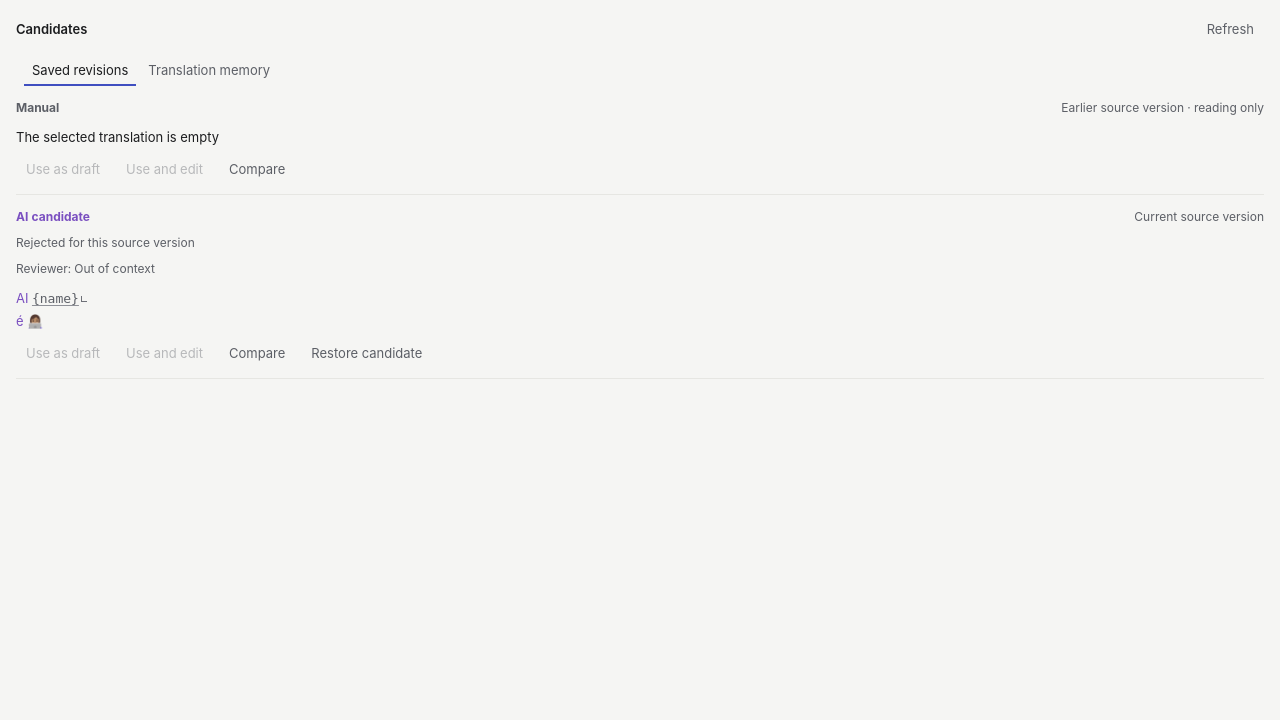
Scenario: keeps older-source and rejected candidates readable and comparable while preventing draft adoption
Expected: the button "Use as draft" below "Manual" is disabled, [16,156,110,182]
Expected: the text "Rejected for this source version" is shown, [16,235,195,250]
Click the button "Compare" below "Manual" at (257, 169), box [219,156,295,182]
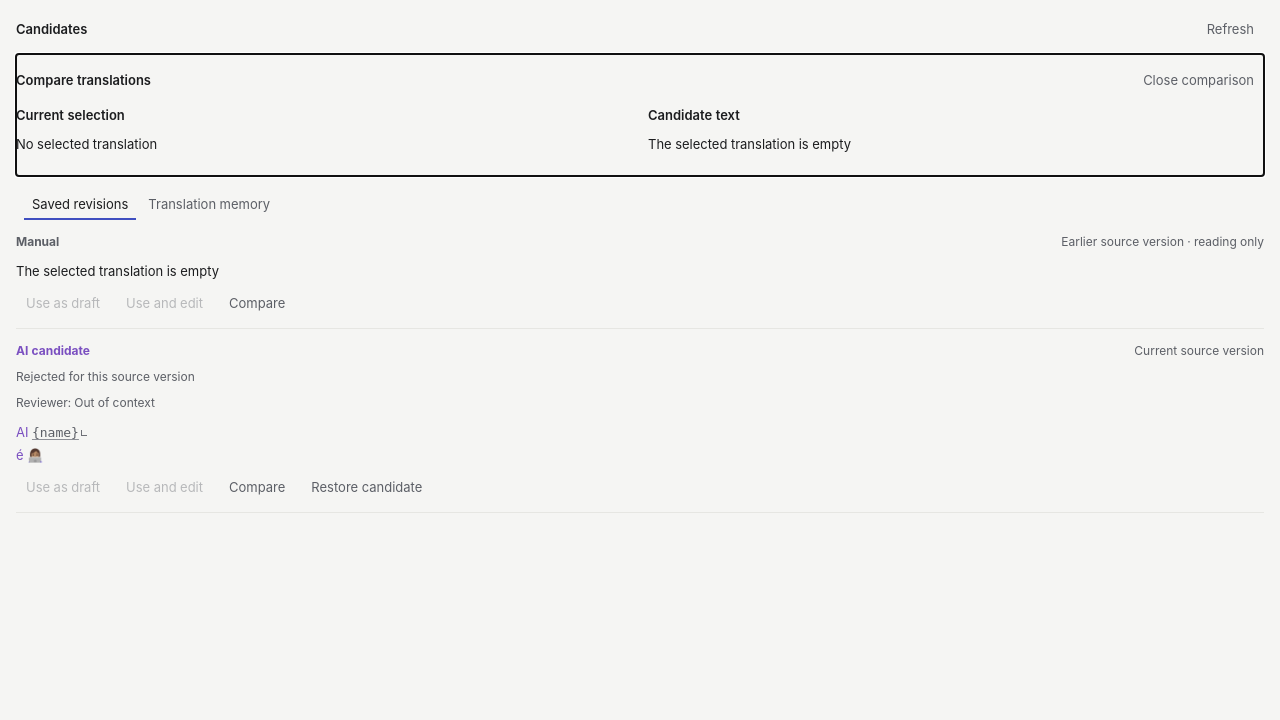
Now the text "No selected translation" is shown, box [16,136,157,152]
Now the text "The selected translation is empty" below "Candidate text" is shown, box [648,136,851,152]
